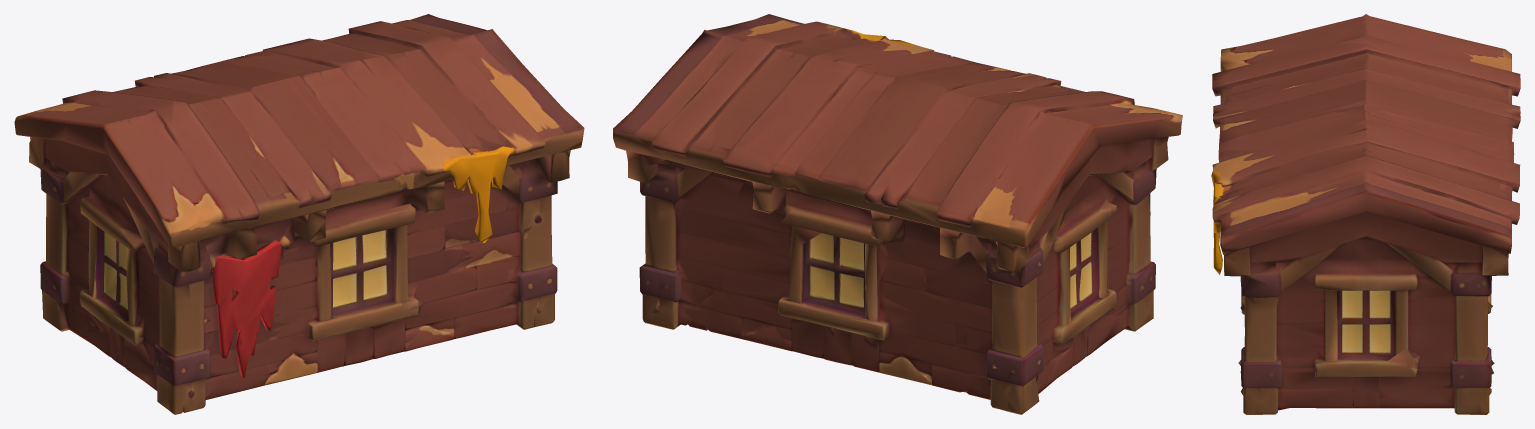
File: Kit_Wall.fbx
The picture shows the model from 3 angles, left to right: view 1: azimuth 30°, elevation 25°; view 2: azimuth 150°, elevation 25°; view 3: azimuth 270°, elevation 25°; orthographic projection. The views are drawn at different scales.
Visible parts, largest first — view 1: tripo_node_bf7133c9; view 2: tripo_node_bf7133c9; view 3: tripo_node_bf7133c9.
Boxes of the visible parts, bbox=[...] form: tripo_node_bf7133c9: bbox=[14, 14, 584, 414]; tripo_node_bf7133c9: bbox=[613, 14, 1182, 414]; tripo_node_bf7133c9: bbox=[1211, 14, 1520, 414].
Bounding box in the file's own units: 97.95 × 68.13 × 55.73.
Materials: 1 (1 with a texture image).
